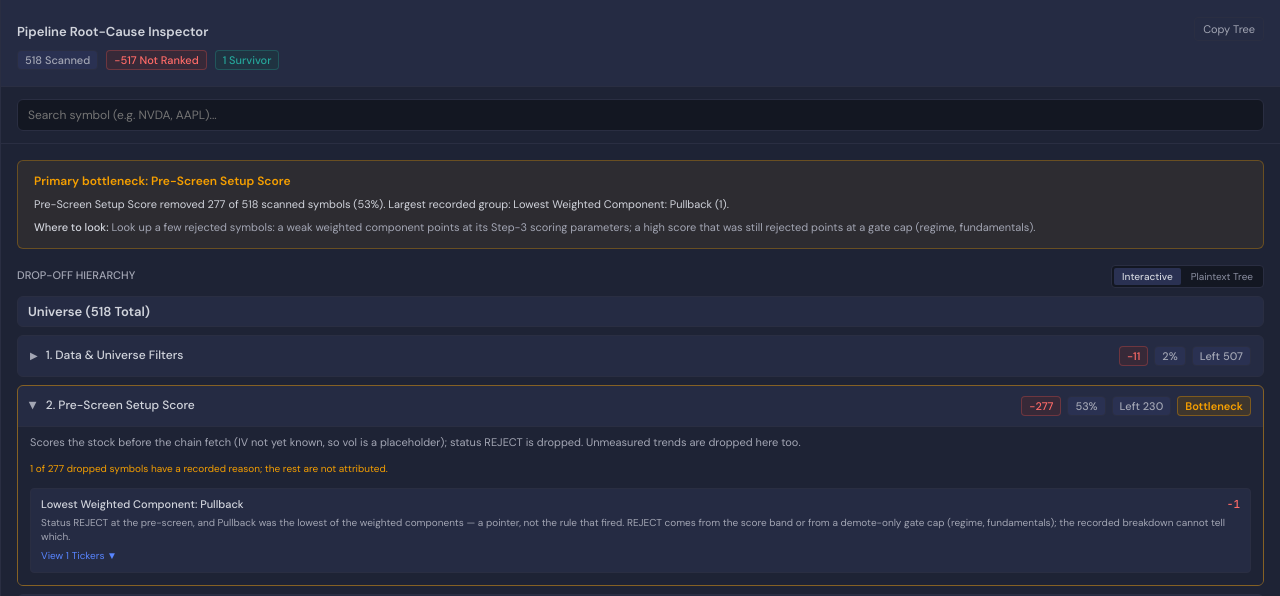
PipelineInspector Component › says a symbol was not part of the scan instead of showing nothing
In the field with placeholder "Search symbol (e.g. NVDA, AAPL)...": point(640, 115) top-left (17, 99), bottom-right (1264, 131), type "zzzz"
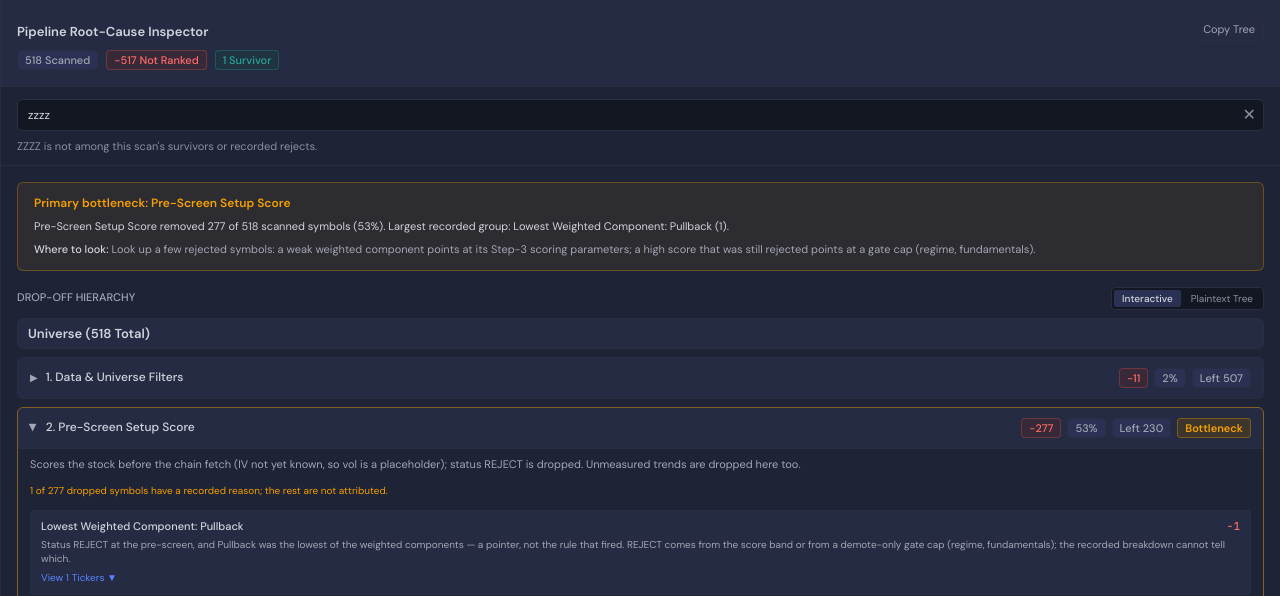
Check: the text "ZZZZ is not among this scan's survivors or recorded rejects." is shown, box top-left (17, 139), bottom-right (317, 153)
